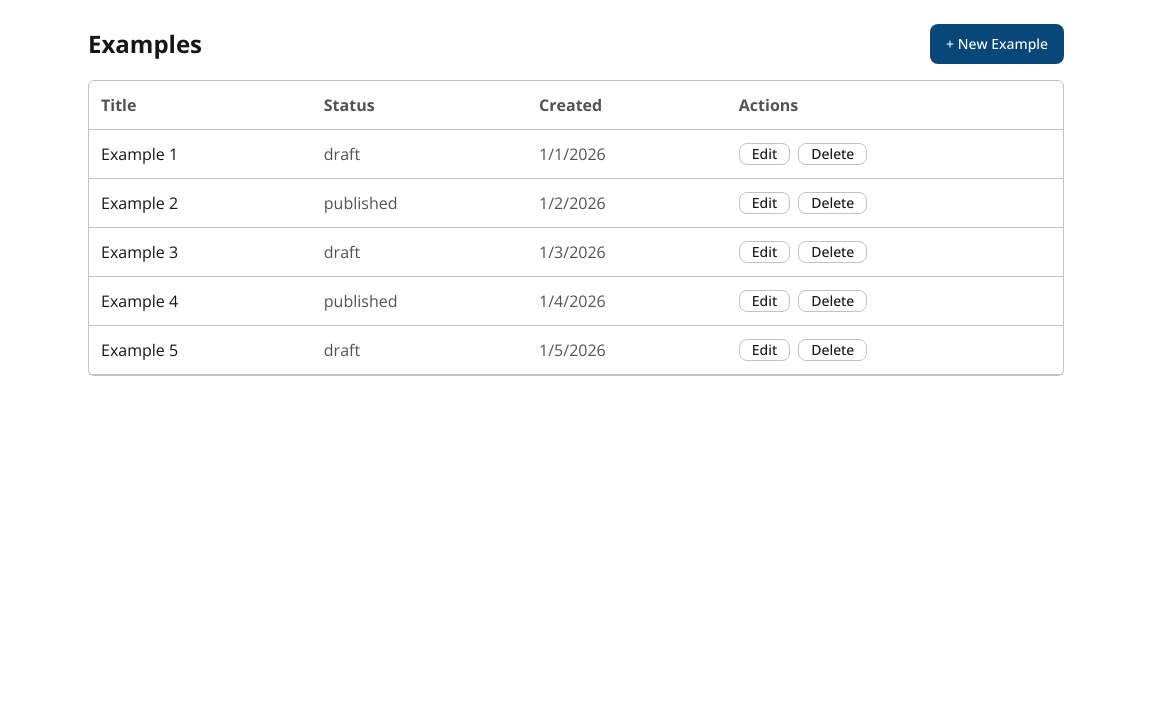
Test: ExamplesPage › [+ New Example] 클릭 시 다이얼로그가 열린다
expect the text "Example 1" is shown: met, box [89,130,312,178]
What coordinates should you click on to do the following:
click the button "+ New Example"
I would click on:
 (997, 44)
Its box is [930,24,1064,64].
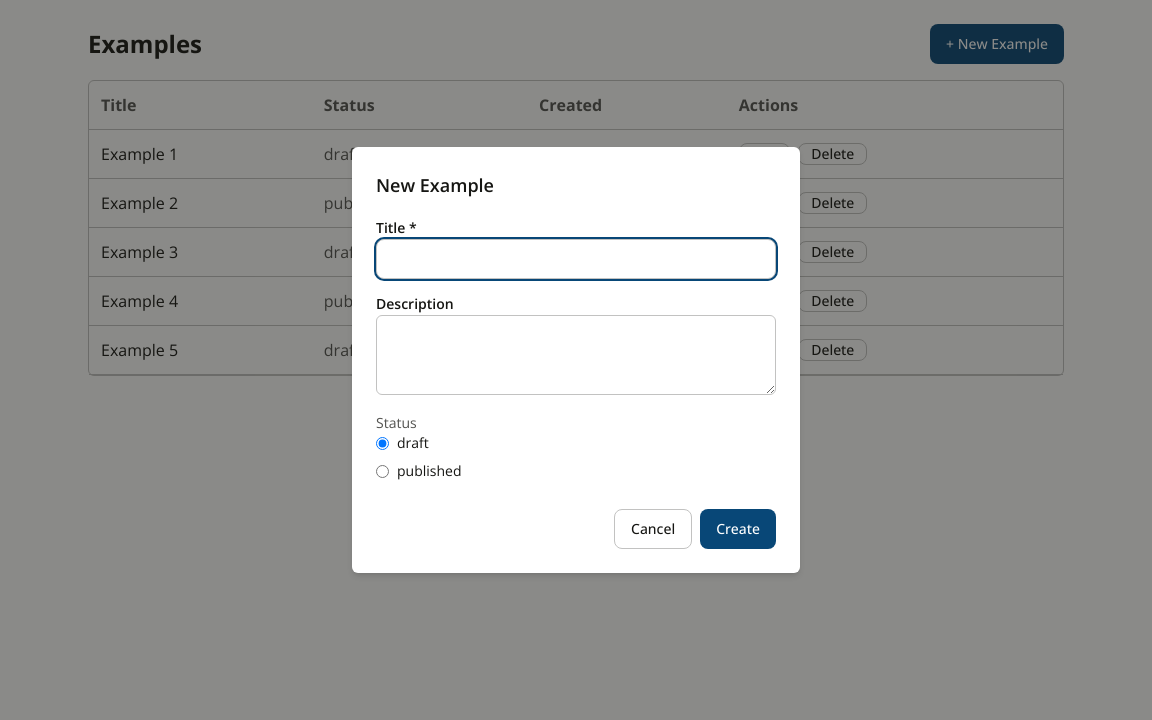
expect the dialog is shown: met, box [352,147,800,573]
